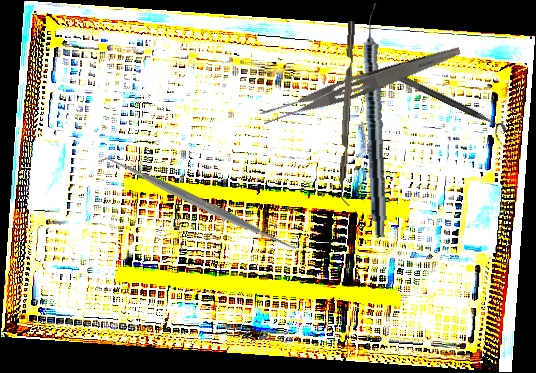Chopper: (335, 20, 365, 207)
Dressing Forceps: (258, 36, 463, 131)
Fixation Ring: (394, 74, 508, 142)
Handpiece: (359, 3, 393, 238)
Spatula Surgical: (96, 144, 302, 262)
